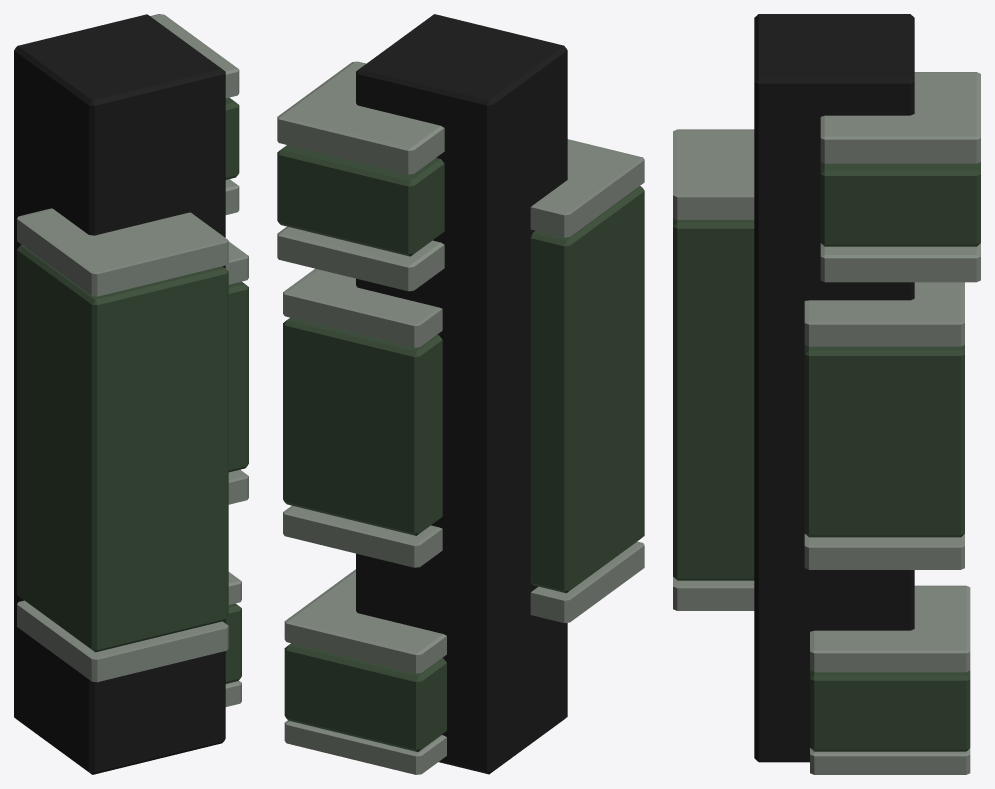
The model's file is Floating_Pillar_001.fbx.
3 views of the same model, side by side, from view 1: azimuth 30°, elevation 25°; view 2: azimuth 150°, elevation 25°; view 3: azimuth 270°, elevation 25° (orthographic).
Parts seen in each view (by area): view 1: Floating_Pillar_001; view 2: Floating_Pillar_001; view 3: Floating_Pillar_001.
Boxes of the visible parts, x1,y1,x2,y2 form: Floating_Pillar_001: (14, 14, 248, 774); Floating_Pillar_001: (277, 14, 644, 774); Floating_Pillar_001: (673, 14, 980, 774).
Bounding box in the file's own units: 915 × 2655 × 1083.
1 material, 1 textured.
